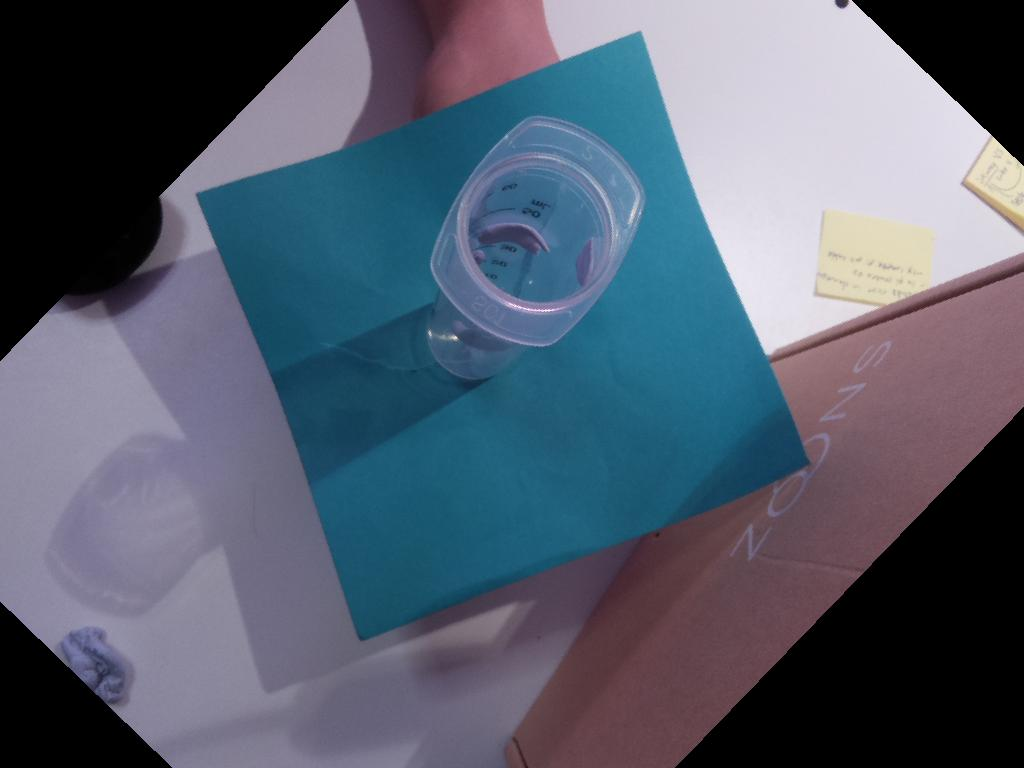dirty: (430, 116, 645, 347)
